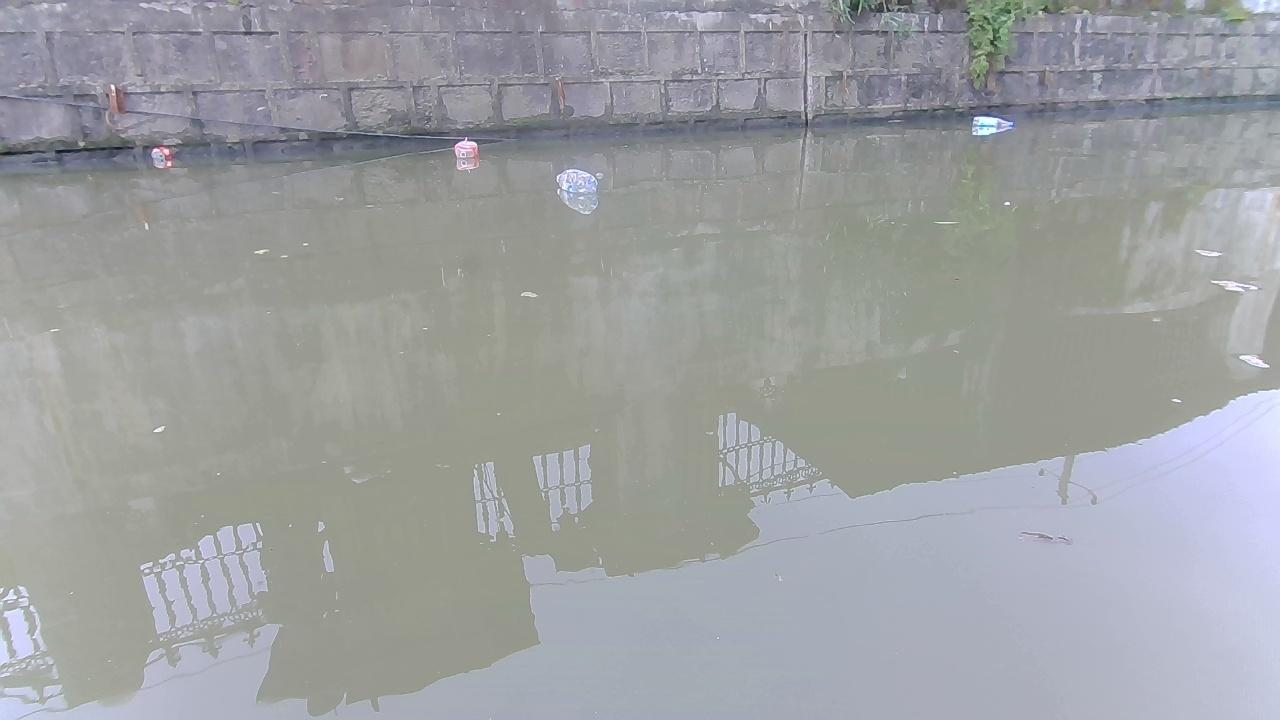bottle: (556, 167, 600, 192), (147, 141, 181, 168), (451, 137, 481, 157), (970, 116, 1014, 127)
